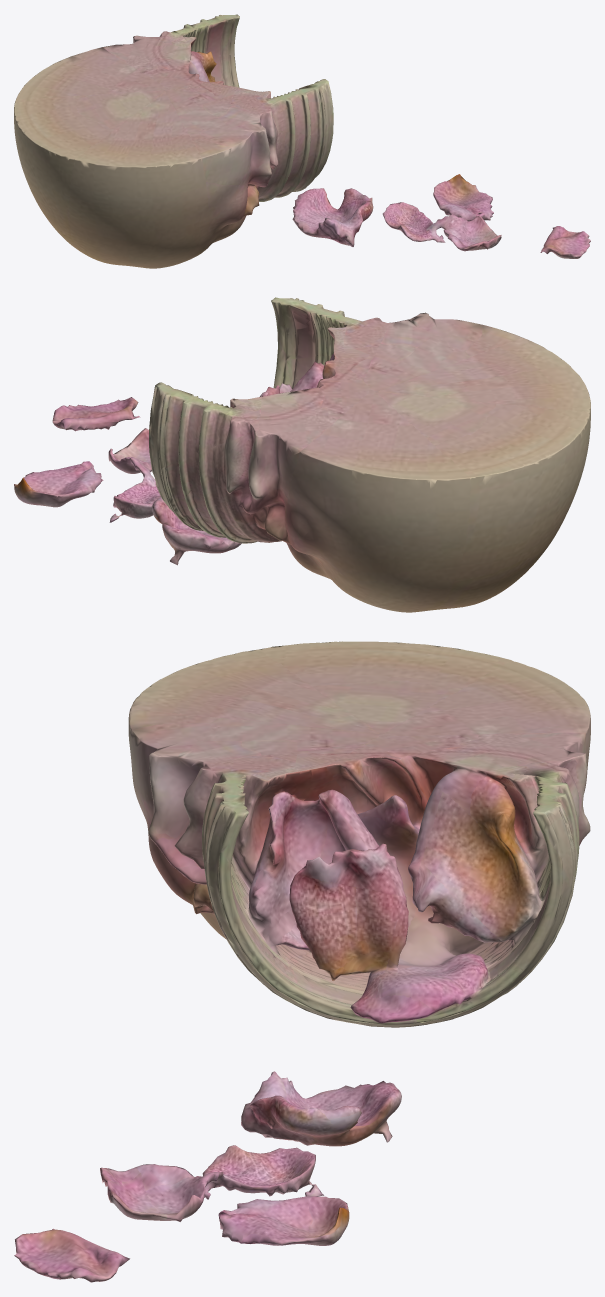
Rendered from petalos-rosa.glb.
The picture shows the model from 3 angles, top to bottom: view 1: azimuth 30°, elevation 25°; view 2: azimuth 150°, elevation 25°; view 3: azimuth 270°, elevation 25°; orthographic projection. The views are drawn at different scales.
Parts seen in each view (by area): view 1: tripo_node_fb88d943-4789-4b08-9c42-7fe00551ed6b; view 2: tripo_node_fb88d943-4789-4b08-9c42-7fe00551ed6b; view 3: tripo_node_fb88d943-4789-4b08-9c42-7fe00551ed6b.
Boxes of the visible parts, <box> form: tripo_node_fb88d943-4789-4b08-9c42-7fe00551ed6b: <box>14,14,590,268</box>; tripo_node_fb88d943-4789-4b08-9c42-7fe00551ed6b: <box>14,297,590,612</box>; tripo_node_fb88d943-4789-4b08-9c42-7fe00551ed6b: <box>14,641,590,1282</box>.
Size of the model in its own units: 0.9788 by 0.3537 by 0.6151.
1 material, 1 textured.
